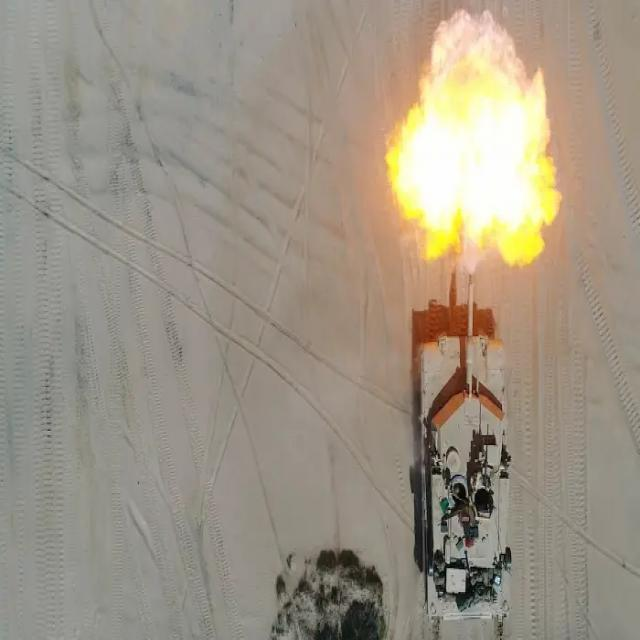Tanks: (406, 270, 516, 636)
